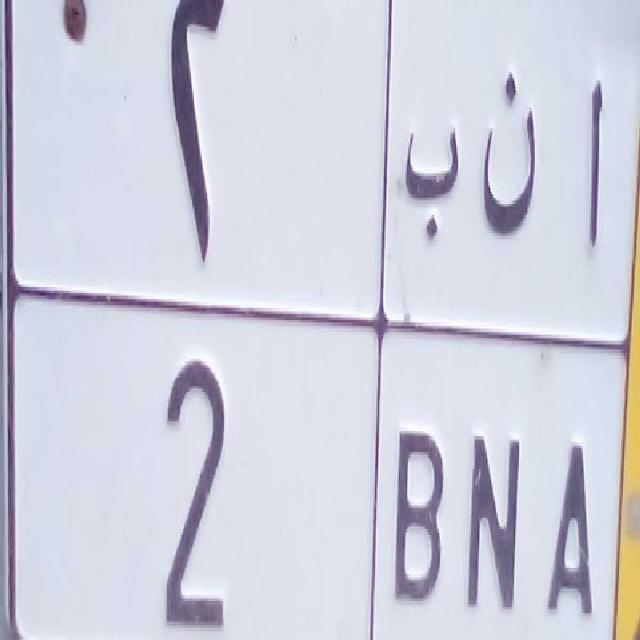license_plate: (10, 279, 625, 640)
